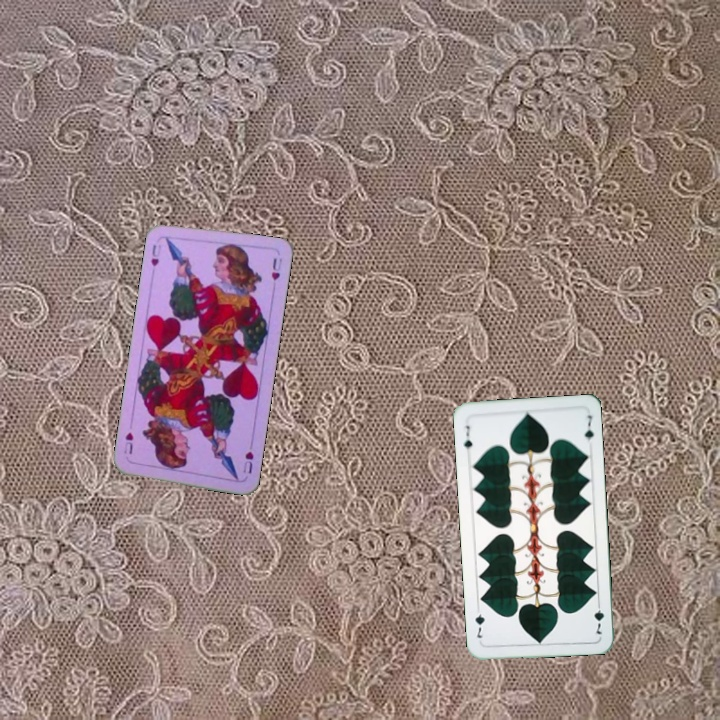G7: (590, 597, 607, 637), (460, 421, 475, 452)
HU: (147, 240, 166, 269), (239, 447, 256, 476)
